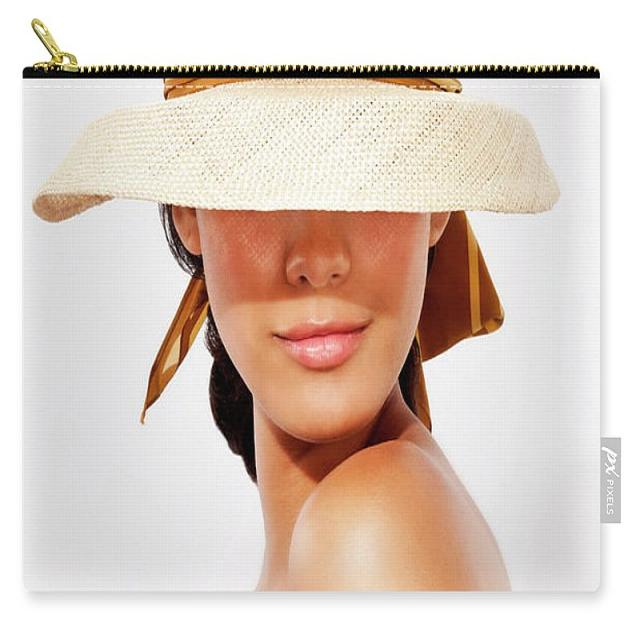hat: (33, 79, 561, 442)
